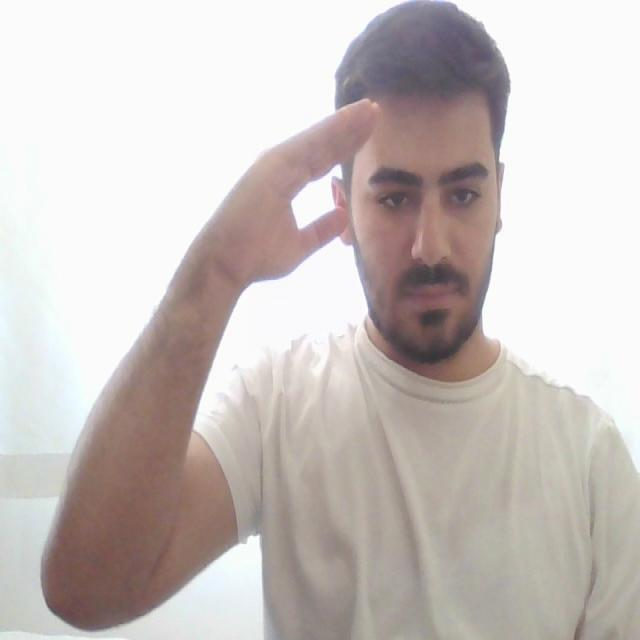Merhaba: (202, 65, 413, 341)
